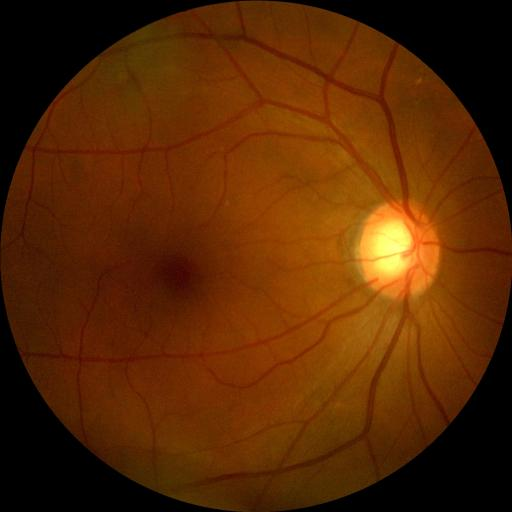Optic Cup: (369, 222, 415, 274)
Optic Disc: (357, 199, 441, 299)
